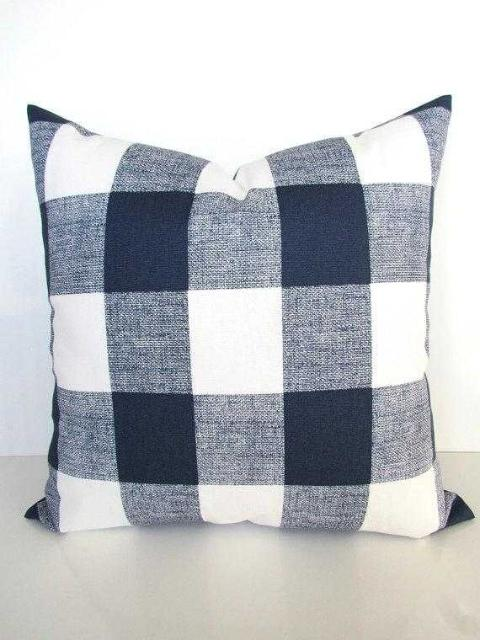pillow: (23, 94, 474, 538)
